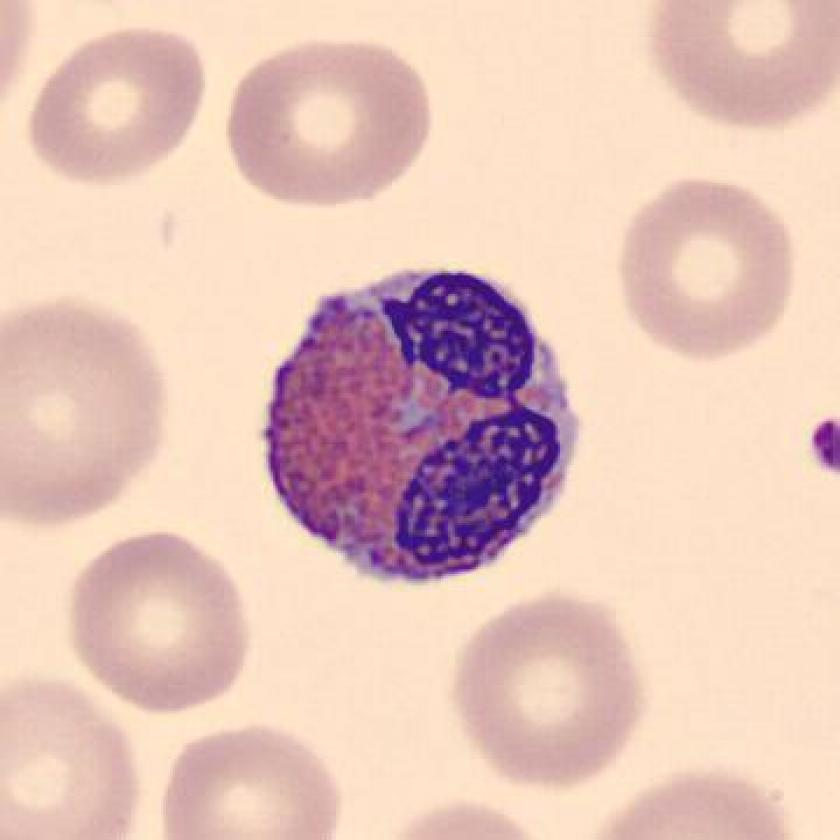eosinophil: (246, 258, 603, 598)
